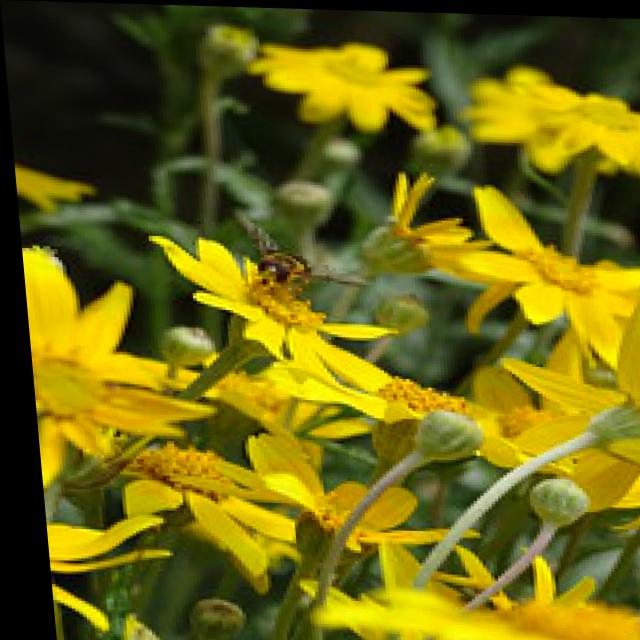Abeille: (243, 215, 347, 299)
